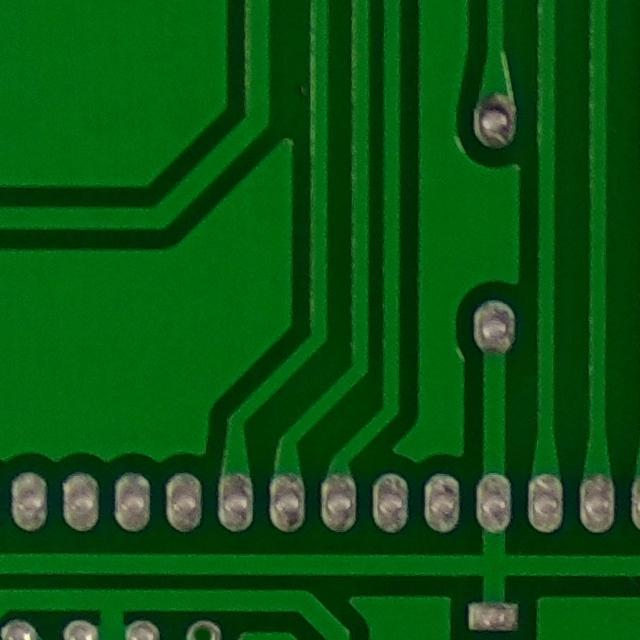missing_hole: (182, 612, 227, 640)
